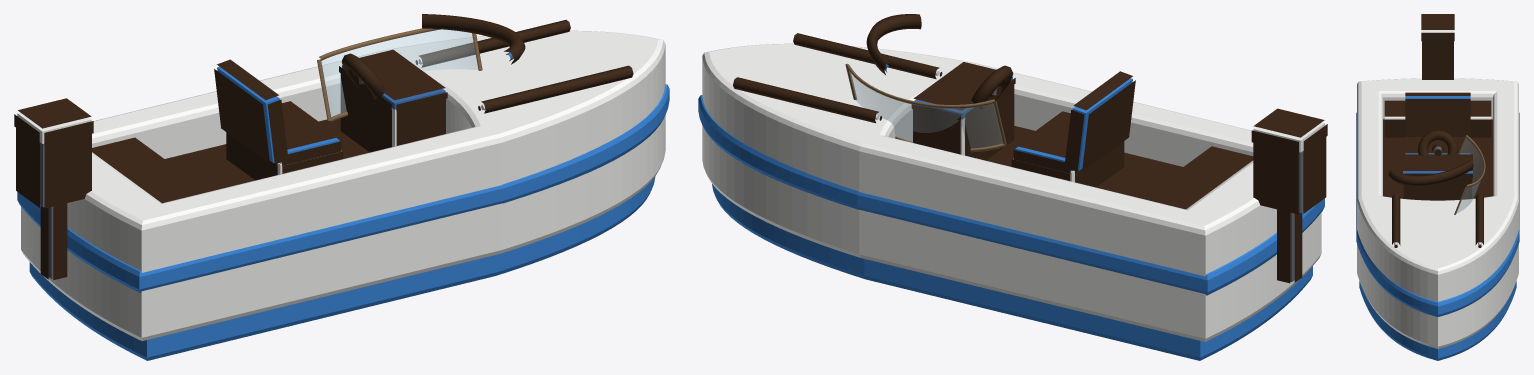
Rendered from speedboat.glb.
3 views of the same model, side by side, from view 1: azimuth 30°, elevation 25°; view 2: azimuth 150°, elevation 25°; view 3: azimuth 270°, elevation 25° (orthographic). The views are drawn at different scales.
Visible parts, largest first — view 1: Speedboat, outline (×14), Group; view 2: Speedboat, outline (×14), Group; view 3: Speedboat, outline (×12).
Part boxes in pixels (x1,y1,x2,y2): Speedboat: [17, 28, 669, 360]; outline (×14): [14, 14, 633, 280]; Group: [17, 112, 91, 278]; Speedboat: [698, 43, 1324, 360]; outline (×14): [733, 14, 1327, 283]; Group: [1253, 122, 1324, 282]; Speedboat: [1356, 78, 1519, 360]; outline (×12): [1383, 14, 1492, 247].
Bounding box in the file's own units: 6.51 × 2.09 × 2.14.
